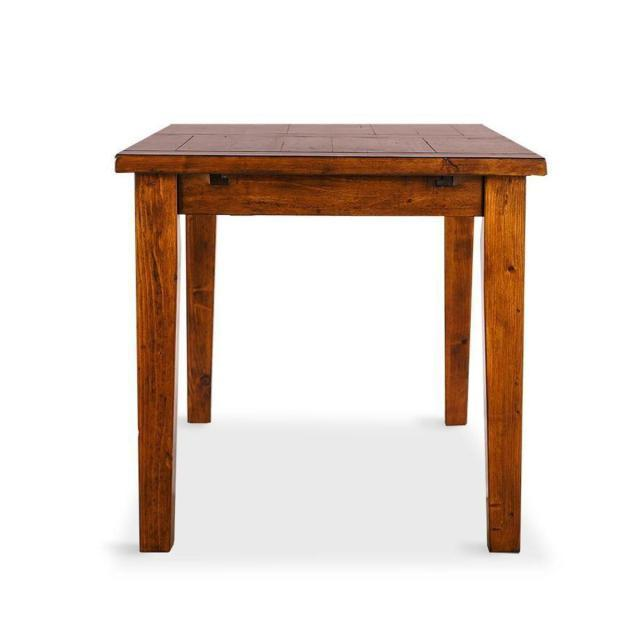table: (103, 102, 584, 603)
